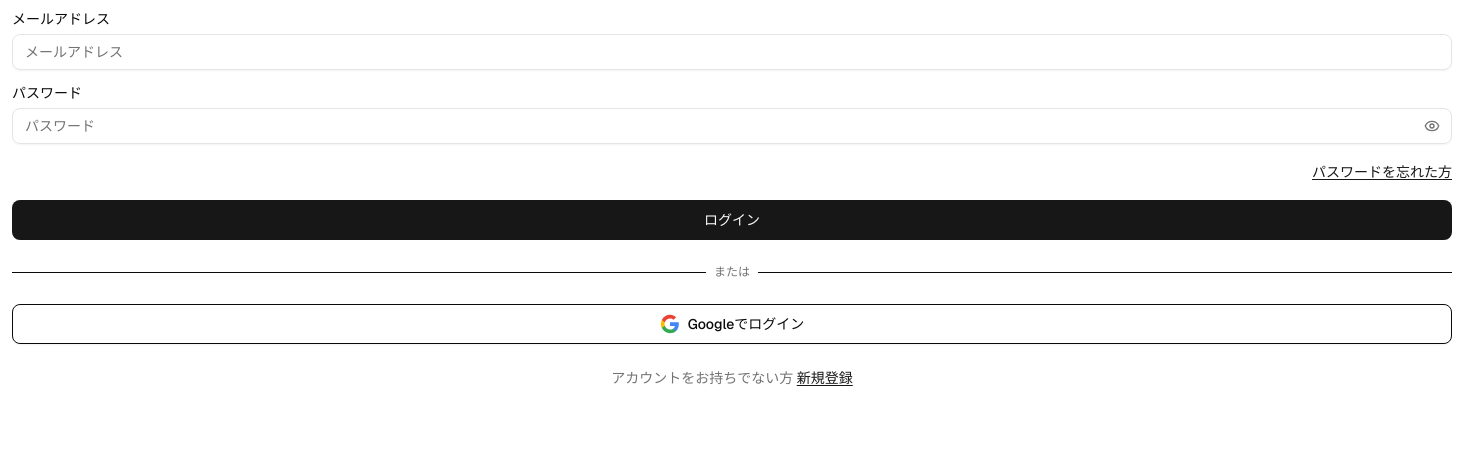
Test: LoginForm › ログイン処理 › ログイン失敗時にエラーメッセージが表示される
The width and height of the screenshot is (1464, 463).
In the field with placeholder "メールアドレス": (732, 52) [12,34,1452,70], type "test@example.com"
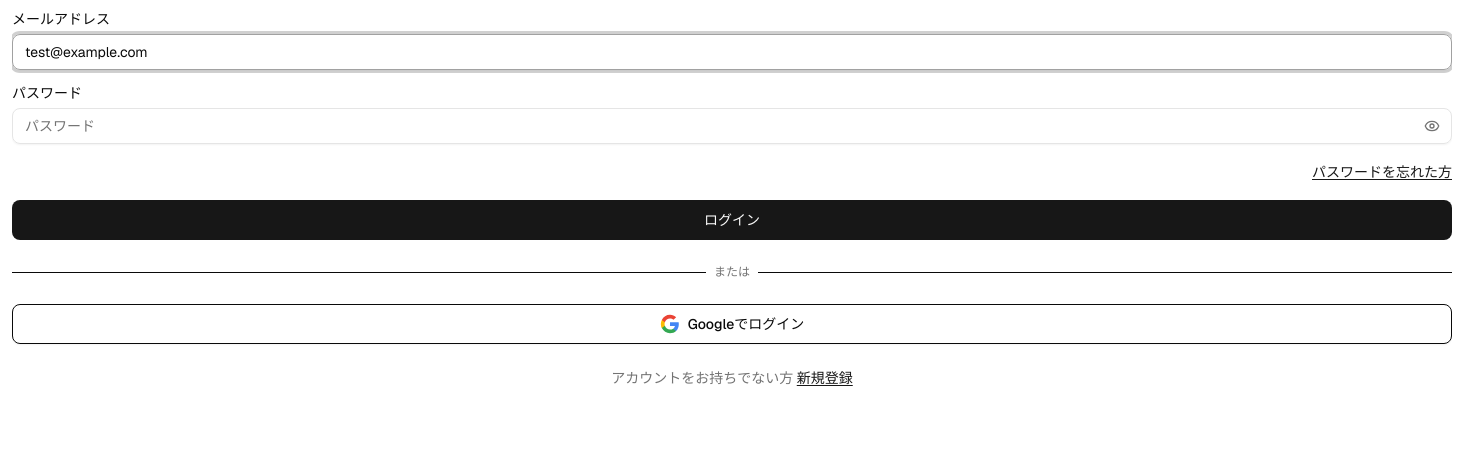
In the password field with placeholder "パスワード": (732, 126) [12,108,1452,144], type "wrongpassword"
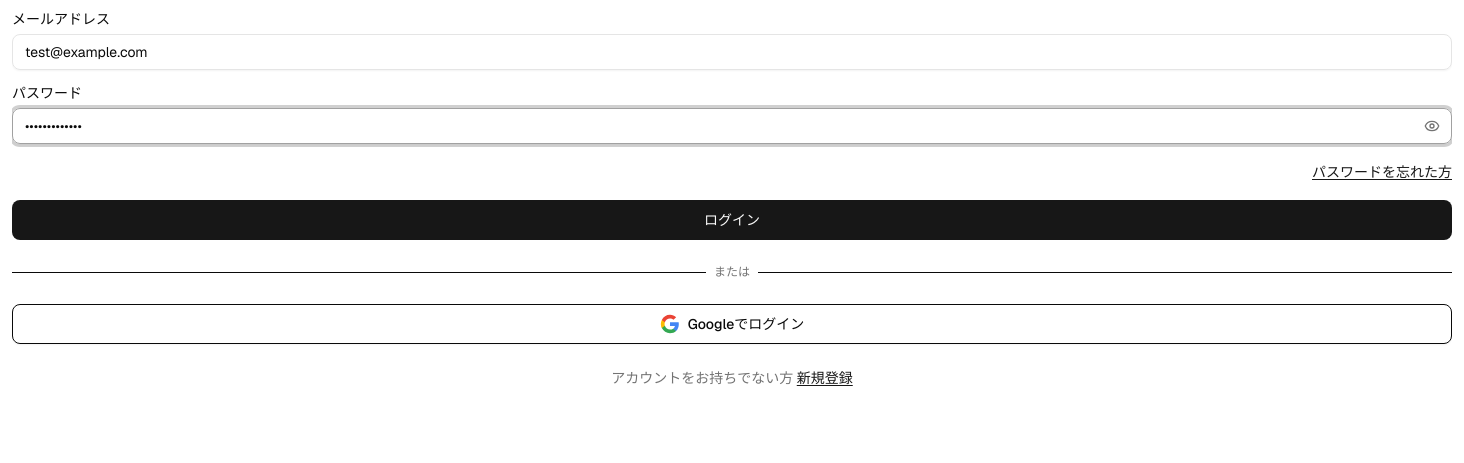
Click the button "ログイン": (732, 220) [12,200,1452,240]
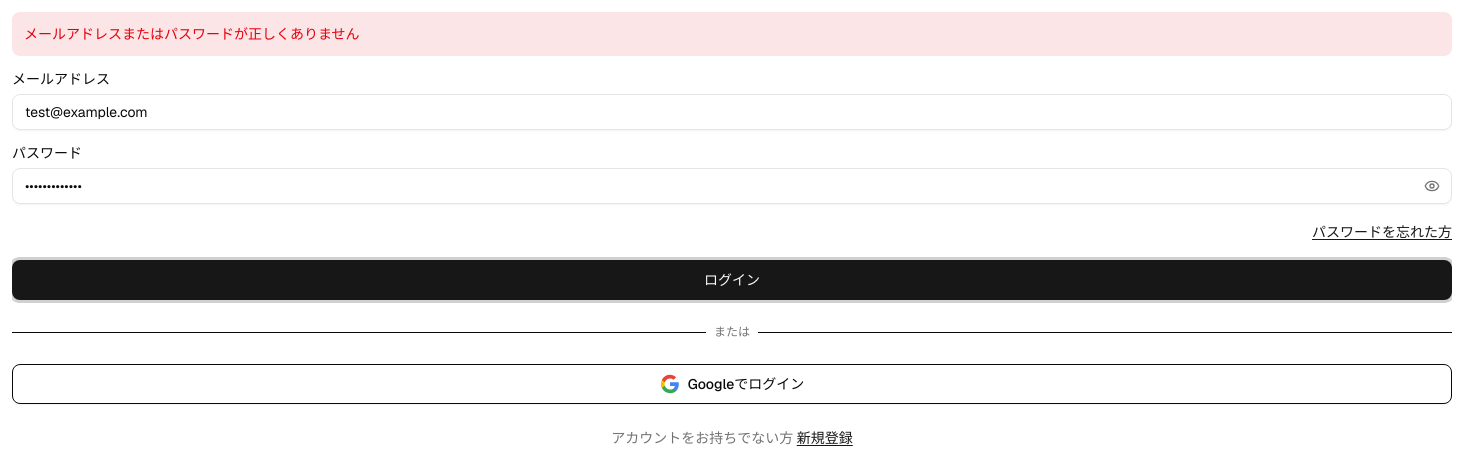
Check: the text "メールアドレスまたはパスワードが正しくありません" is shown, box [12,12,1452,56]
